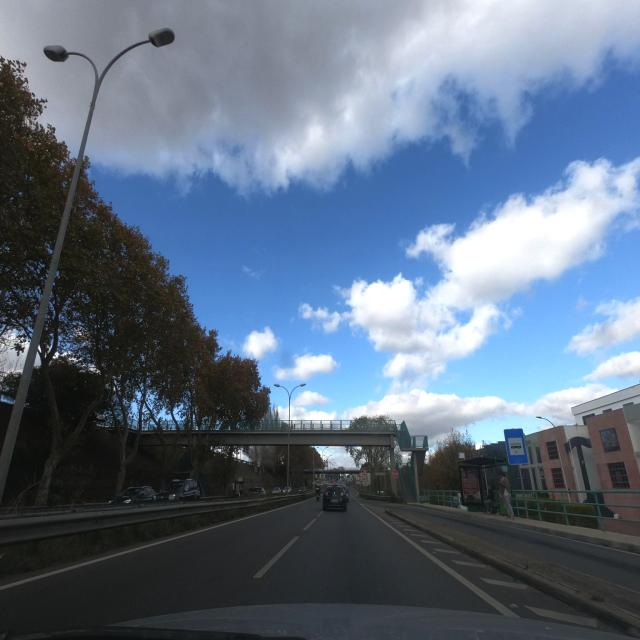car: (157, 478, 200, 502), (107, 485, 156, 505), (322, 484, 348, 511), (246, 486, 266, 498)
